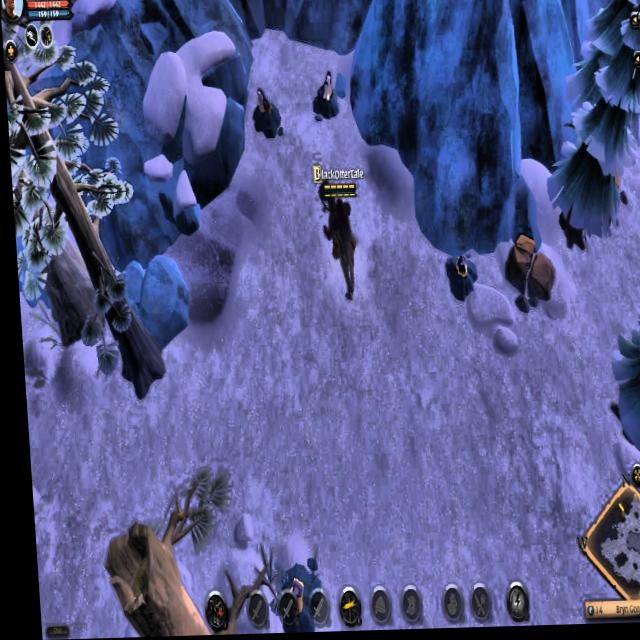copperore: (267, 562, 313, 631), (438, 248, 475, 304), (248, 85, 284, 141), (308, 71, 339, 120)
limestone: (496, 236, 552, 310)
